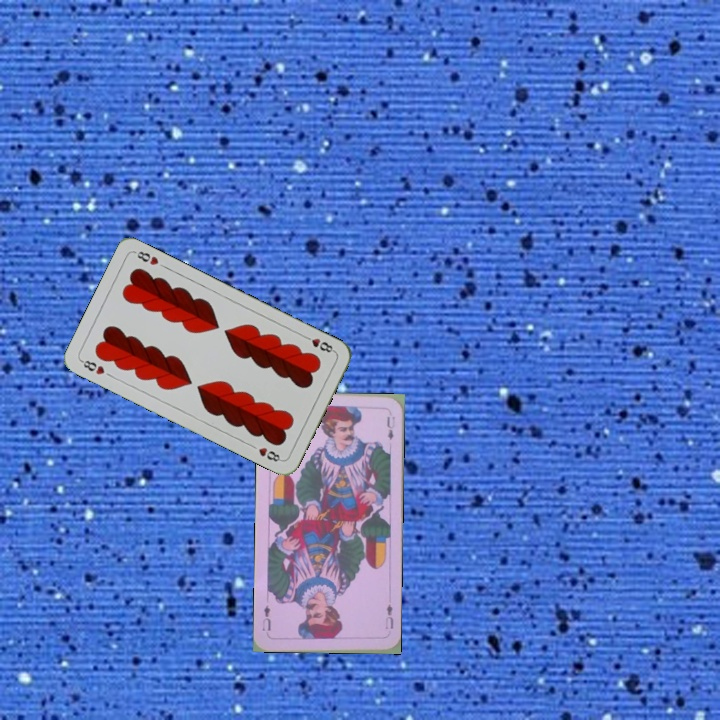EU: (382, 600, 396, 632)
H8: (299, 331, 337, 355), (77, 356, 107, 377)
